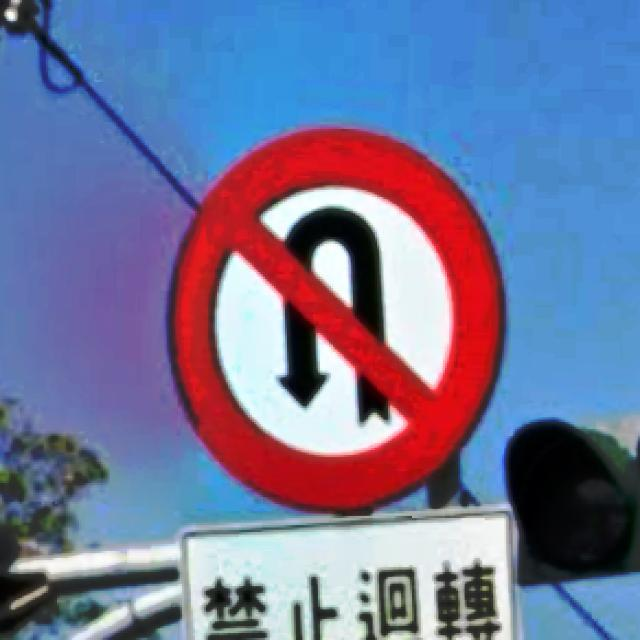nouturn: (164, 122, 506, 513)
